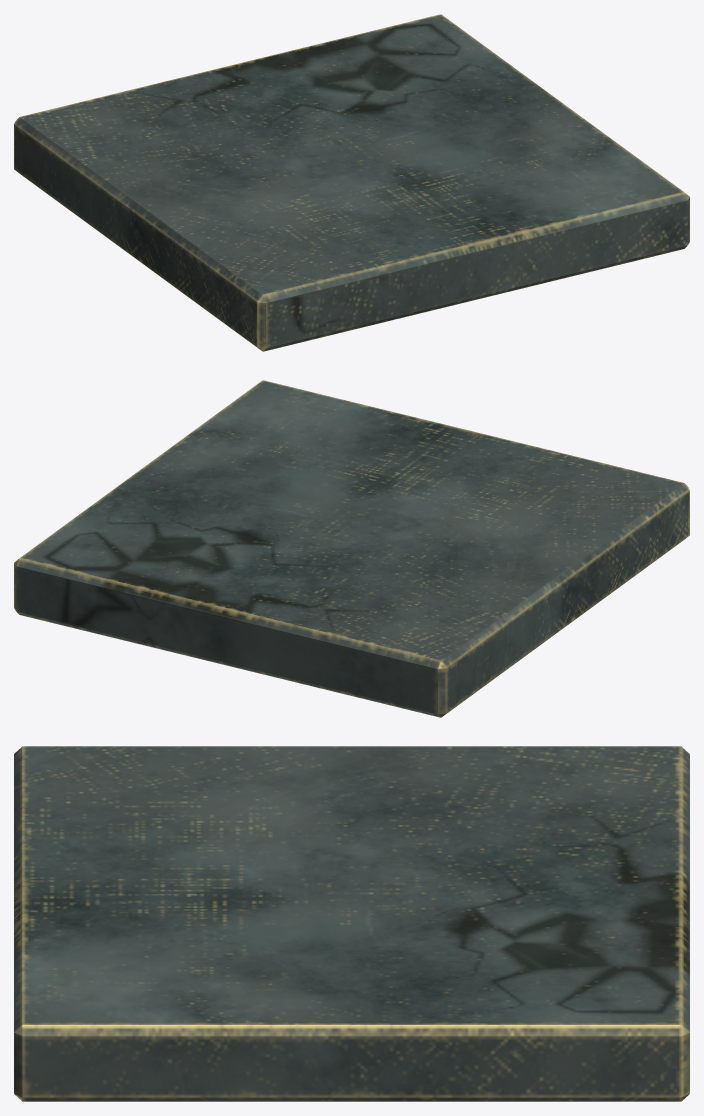
Rendered from Step_01_Art.fbx.
The picture shows the model from 3 angles, top to bottom: view 1: azimuth 30°, elevation 25°; view 2: azimuth 150°, elevation 25°; view 3: azimuth 270°, elevation 25°; orthographic projection. The views are drawn at different scales.
Visible parts, largest first — view 1: Step_01; view 2: Step_01; view 3: Step_01.
Boxes of the visible parts, x1,y1,x2,y2 form: Step_01: (14, 14, 689, 351); Step_01: (14, 380, 689, 717); Step_01: (14, 746, 689, 1101).
Size of the model in its own units: 200 by 25 by 200.
